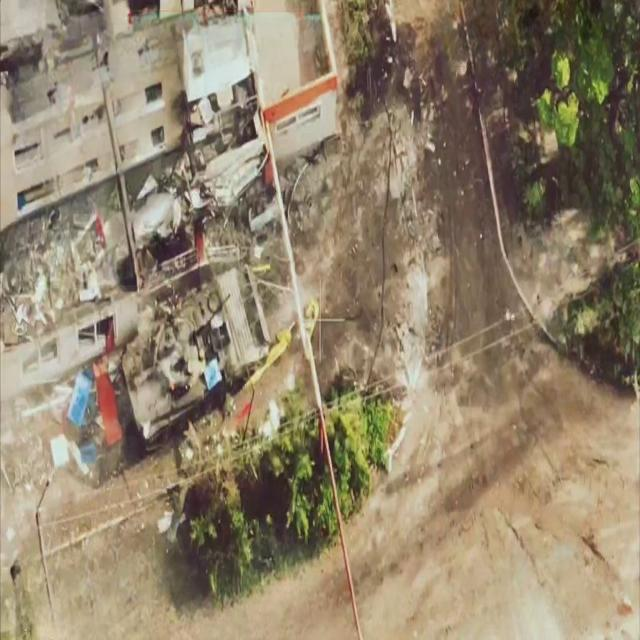AIFV: (127, 259, 274, 456)
